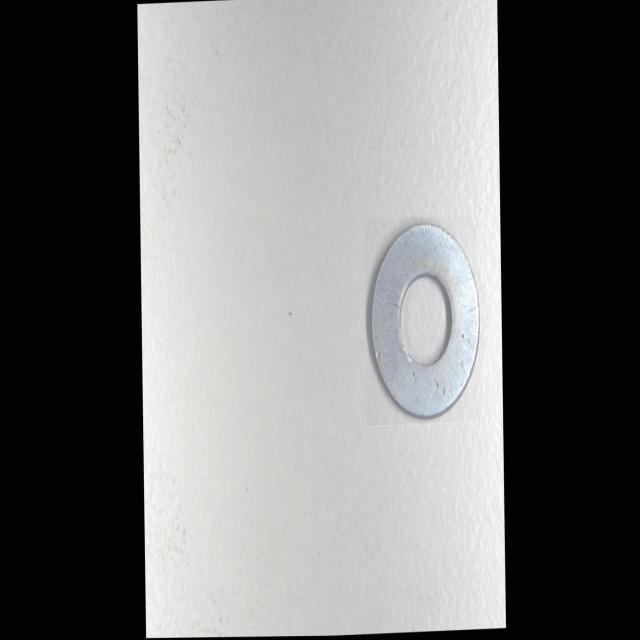washer: (365, 218, 478, 425)
